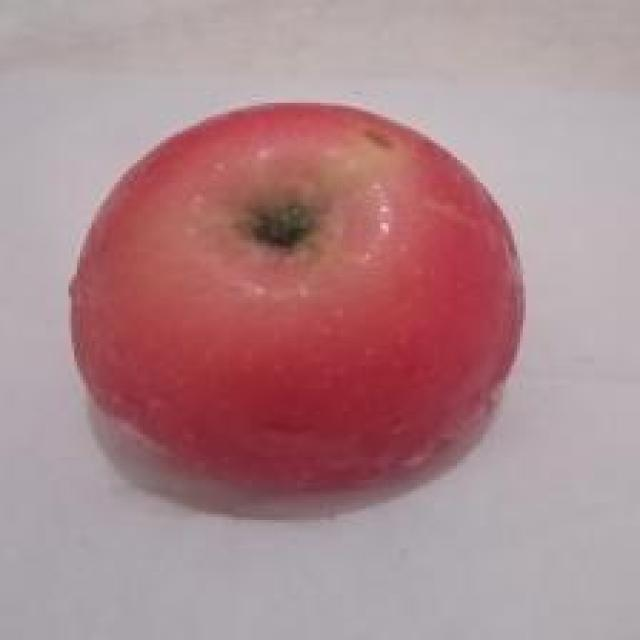apple: (36, 76, 583, 553)
